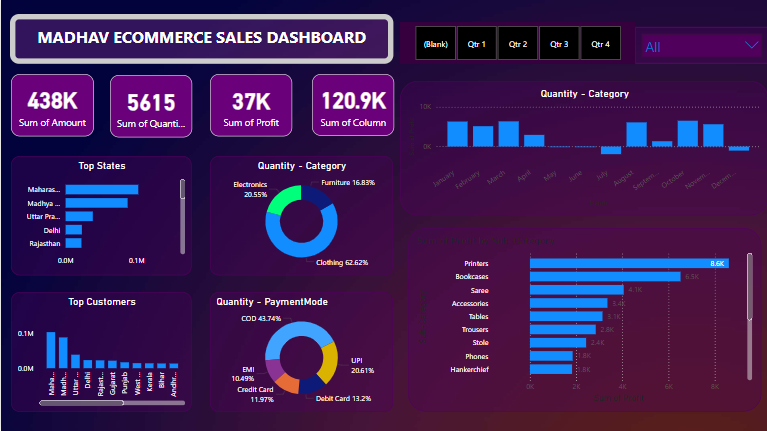

What the dashboard file says about the page in this screenshot:
{"tool":"powerbi","page":{"name":"Page 1","canvas":[1280,720],"ordinal":0},"visuals":[{"type":"textbox","box":[15.6,23.3,638.9,83.3],"z":0},{"type":"card","fields":{"Values":["Sum(Details.Amount)"]},"box":[16.2,123.8,137.5,103.8],"z":1000},{"type":"card","fields":{"Values":["Sum(Details.Profit)"]},"box":[348.9,123.3,136.7,104.4],"z":2000},{"type":"card","fields":{"Values":["Sum(Details.Quantity)"]},"box":[181.1,124.4,136.7,104.4],"z":3000},{"type":"card","fields":{"Values":["Sum(Details.Column)"]},"box":[517.8,123.3,136.7,103.3],"z":4000},{"type":"clusteredBarChart","title":"Top States","fields":{"Category":["3_Power BI madhav sell_2024-12-12_084014 (2).State"],"Y":["Sum(Details.Amount)"]},"box":[16.2,260,301.2,198.8],"z":5000},{"type":"donutChart","title":"Quantity - Category","fields":{"Y":["Sum(Details.Quantity)"],"Category":["Details.Category"]},"box":[348.8,260,305,198.8],"z":6000},{"type":"clusteredColumnChart","title":"Top Customers","fields":{"Y":["Sum(Details.Amount)"],"Category":["3_Power BI madhav sell_2024-12-12_084014 (2).State"]},"box":[16.2,486.2,301.2,200],"z":7000},{"type":"donutChart","title":"Quantity - PaymentMode","fields":{"Y":["Sum(Details.Quantity)"],"Category":["Details.PaymentMode"]},"box":[348.8,486.2,305,200],"z":8000},{"type":"clusteredBarChart","fields":{"Category":["Details.Sub-Category"],"Y":["Sum(Details.Profit)"]},"box":[678.6,380,588.6,305.7],"z":9000},{"type":"columnChart","title":"Quantity - Category","fields":{"Category":["Sheet1.Order Date.Variation.Date Hierarchy.Month"],"Y":["Sum(Details.Profit)"]},"box":[665.7,135.7,614.3,224.3],"z":10000},{"type":"slicer","fields":{"Values":["3_Power BI madhav sell_2024-12-12_084014 (2).State"]},"box":[1057.1,44.3,222.9,61.4],"z":11000},{"type":"slicer","fields":{"Values":["Sheet1.Order Date.Variation.Date Hierarchy.Quarter"]},"box":[665,36.7,391.7,70],"z":12000}]}

Visuals, with their boxes in screenshot pixels (x1, y1, x2, y2), scaled from the page's 1280x720 canvas onto the 767x431 screenshot:
textbox: {"left": 9, "top": 14, "right": 392, "bottom": 64}
card - Sum(Details.Amount): {"left": 10, "top": 74, "right": 92, "bottom": 136}
card - Sum(Details.Profit): {"left": 209, "top": 74, "right": 291, "bottom": 136}
card - Sum(Details.Quantity): {"left": 109, "top": 74, "right": 190, "bottom": 137}
card - Sum(Details.Column): {"left": 310, "top": 74, "right": 392, "bottom": 136}
"Top States" clusteredBarChart: {"left": 10, "top": 156, "right": 190, "bottom": 275}
"Quantity - Category" donutChart: {"left": 209, "top": 156, "right": 392, "bottom": 275}
"Top Customers" clusteredColumnChart: {"left": 10, "top": 291, "right": 190, "bottom": 411}
"Quantity - PaymentMode" donutChart: {"left": 209, "top": 291, "right": 392, "bottom": 411}
clusteredBarChart - Details.Sub-Category x Sum(Details.Profit): {"left": 407, "top": 227, "right": 759, "bottom": 410}
"Quantity - Category" columnChart: {"left": 399, "top": 81, "right": 766, "bottom": 216}
slicer - 3_Power BI madhav sell_2024-12-12_084014 (2).State: {"left": 633, "top": 27, "right": 766, "bottom": 63}
slicer - Sheet1.Order Date.Variation.Date Hierarchy.Quarter: {"left": 398, "top": 22, "right": 633, "bottom": 64}
